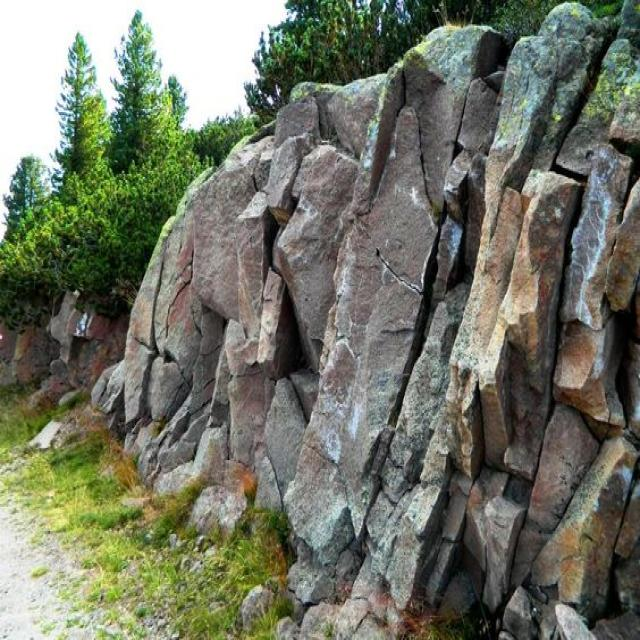cement: (0, 0, 639, 638)
grass: (0, 402, 288, 638)
